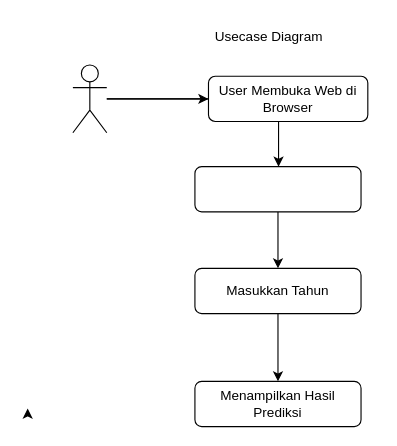
Image size: 397x446. Some labels were removed from this diagram. Each missing label, with the centre of its shape:
"User" goes at (89,98).
"Web menampilkan halaman yang berisi form tahun" goes at (277,189).
